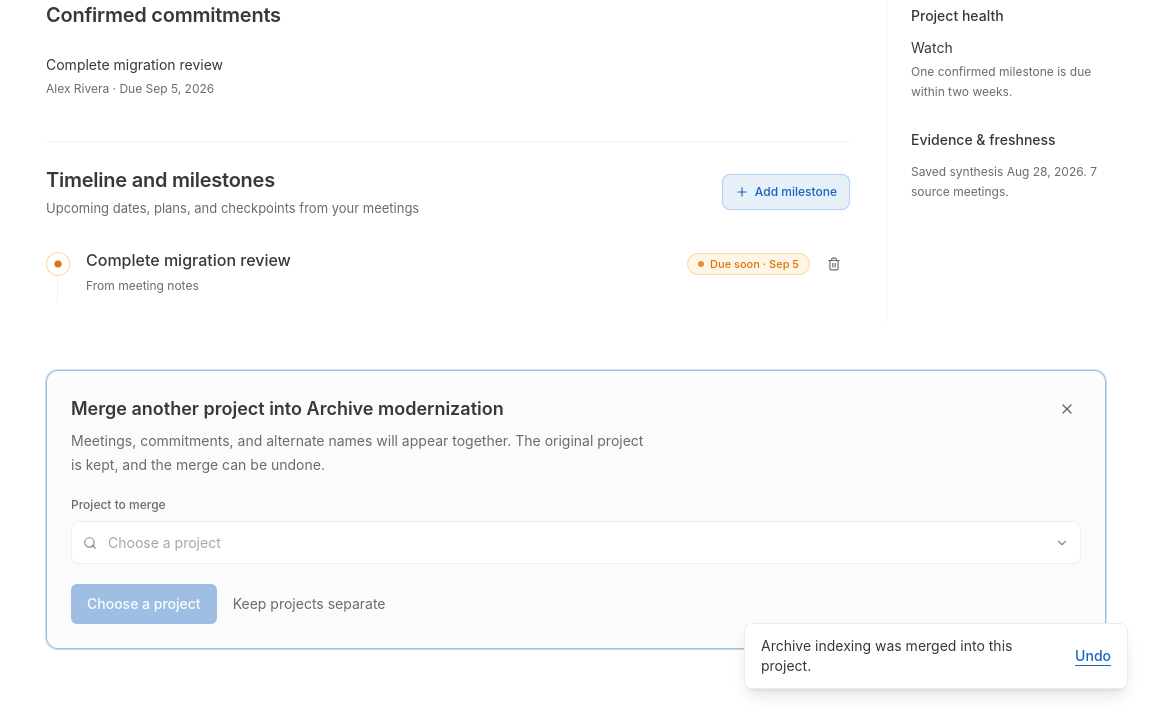
Scenario: only undoes the latest manual merge without exposing the previous one
Earlier steps of the test are not shown.
(page scrolled)
Click the dropdown with id "merge-project-source" at (576, 542), box [71, 521, 1081, 564]
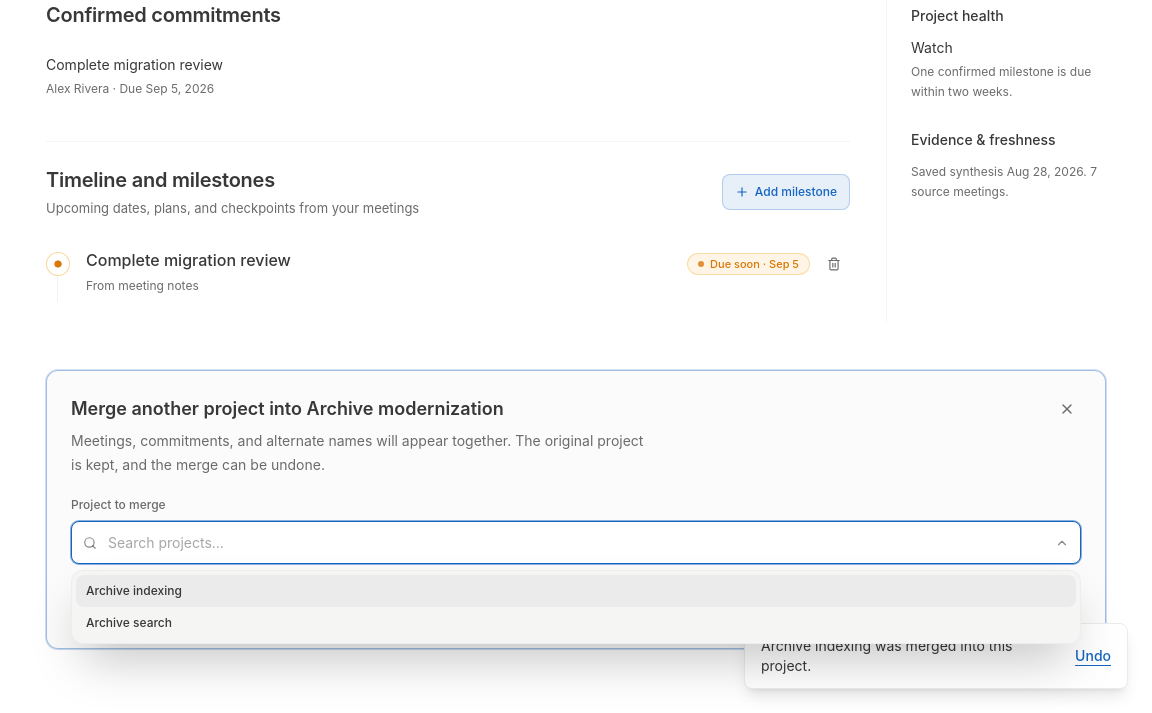
Click the option "Archive search" at (129, 623), box [76, 607, 1076, 639]
(page scrolled)
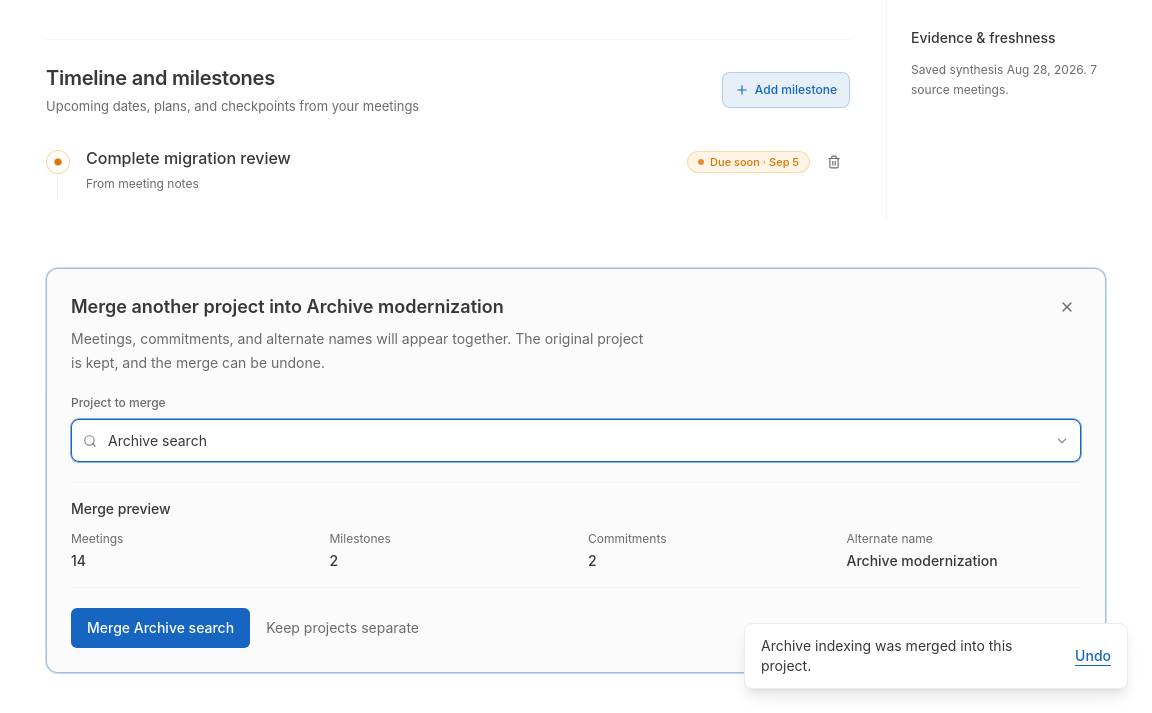
Click the button "Merge Archive search" at (161, 628), box [71, 608, 250, 648]
(page scrolled)
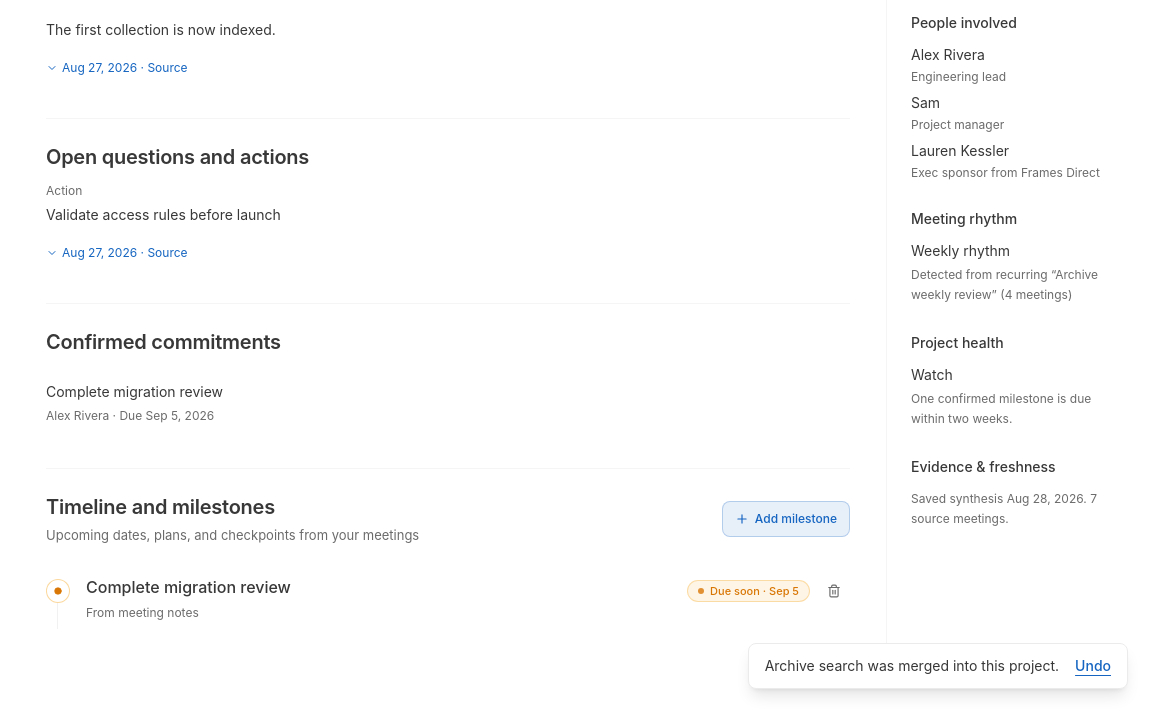
Click the button "Undo" at (1093, 666), box [1075, 656, 1111, 676]
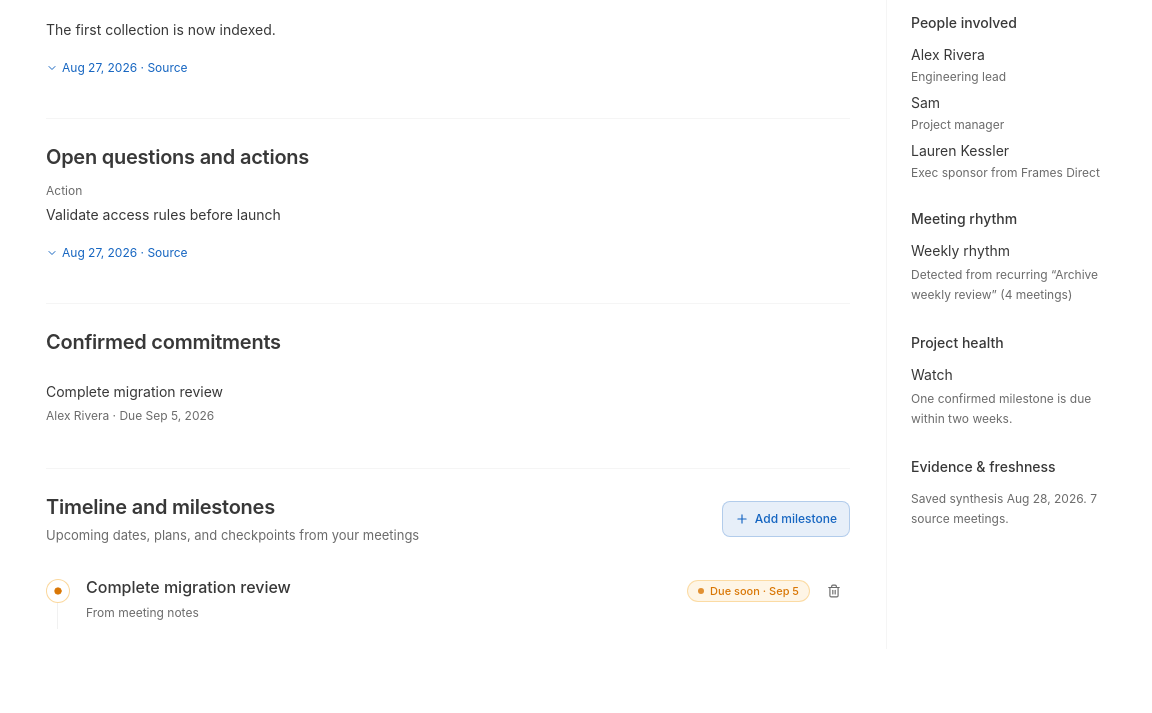
Check: the text "Undo" is gone
